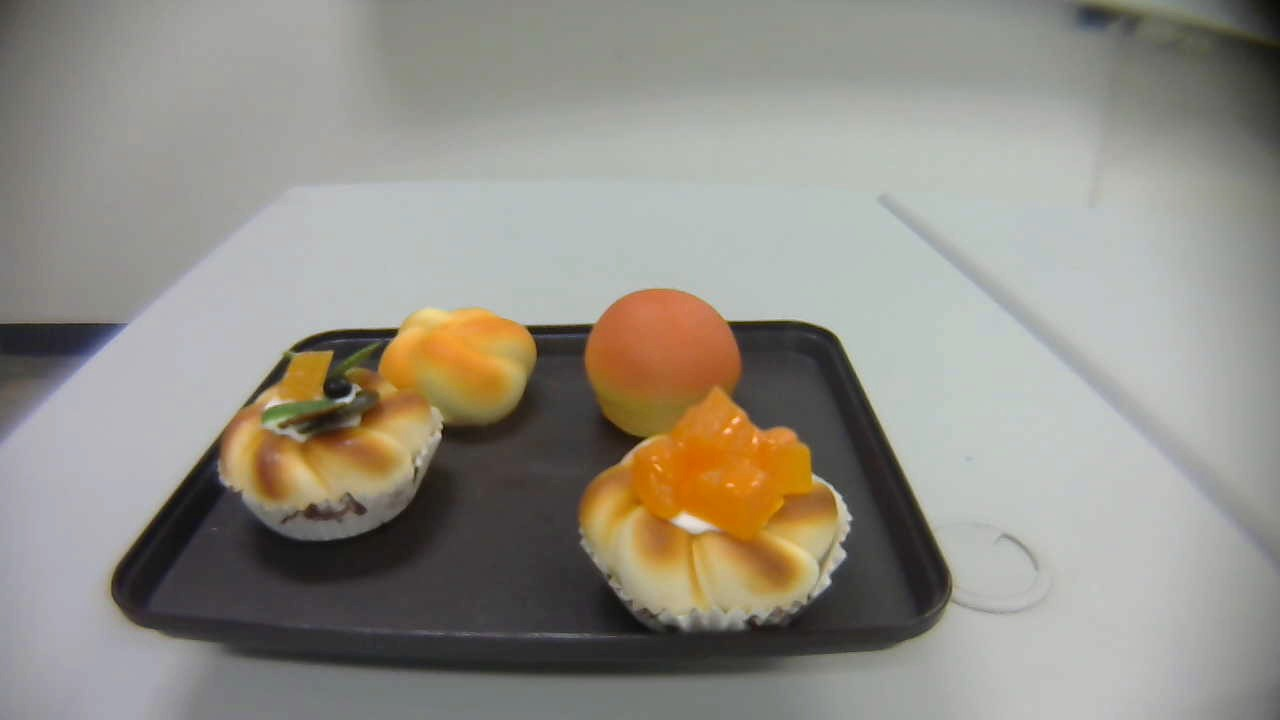bun: (583, 288, 743, 438)
fruit tart: (218, 339, 442, 544)
mango tart: (579, 389, 851, 631)
twist bread: (377, 307, 538, 426)
